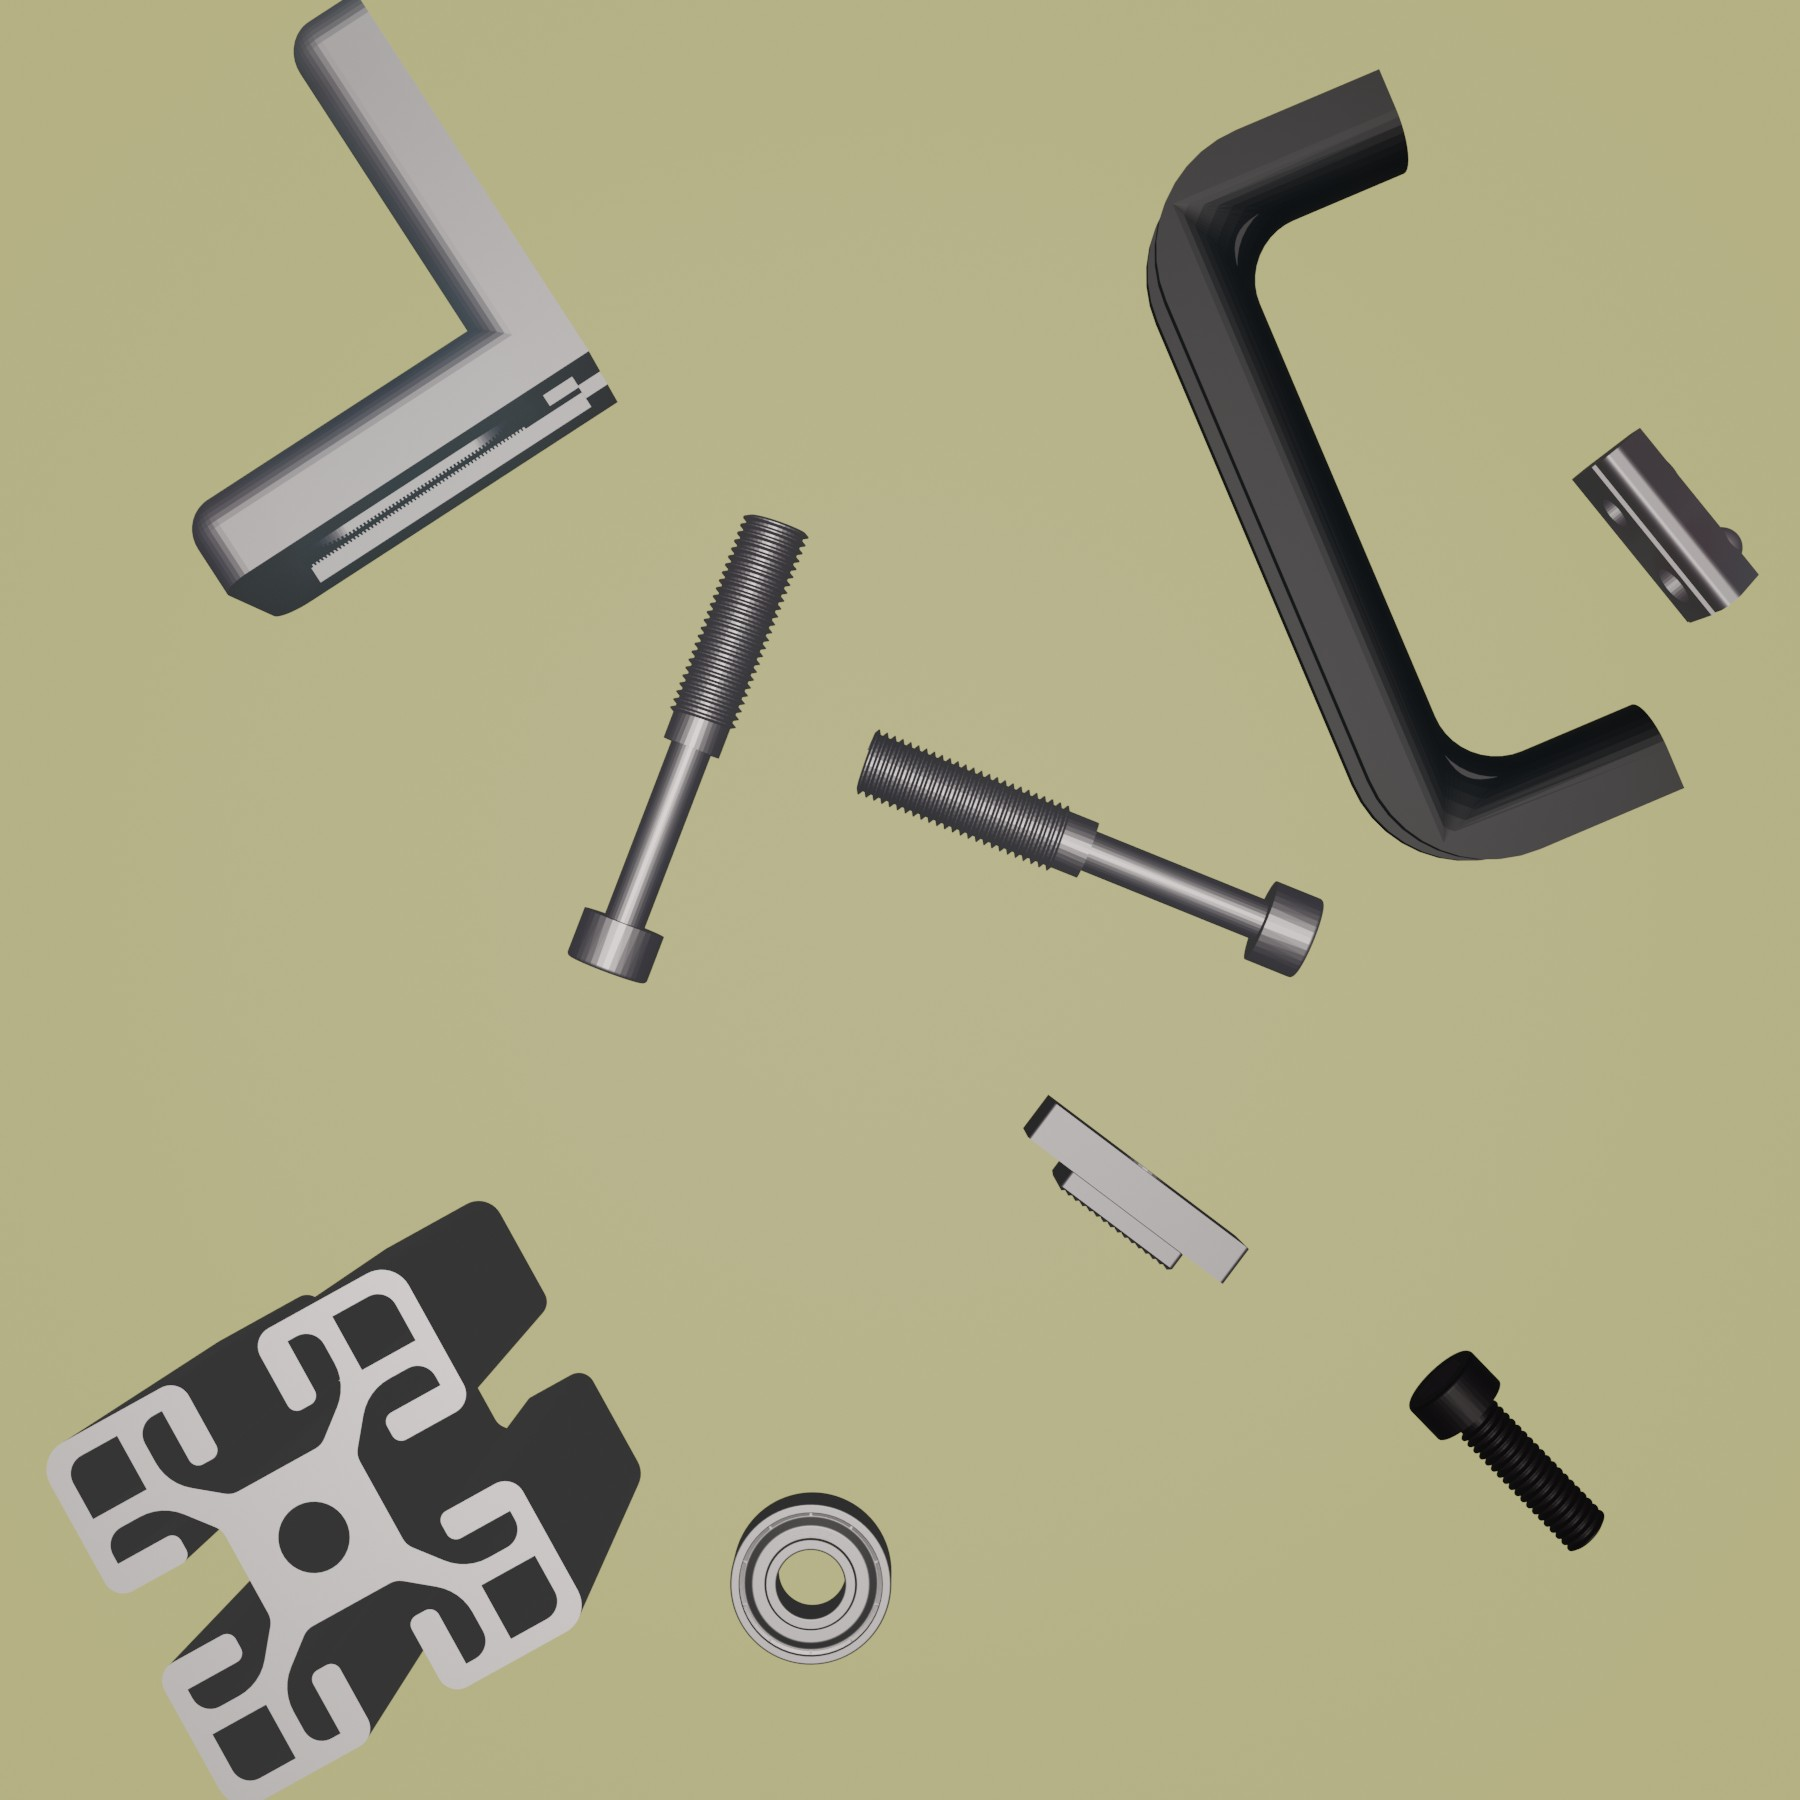Aluminium Extension: (46, 1200, 643, 1800)
Ball Bearing: (725, 1488, 893, 1668)
Multiwinkel: (190, 2, 625, 620)
Pull Handle: (1144, 68, 1686, 865)
Shoulder Socket Head Cap Screw: (852, 727, 1325, 981), (565, 511, 811, 986)
Socket Head Cap Screw: (1409, 1345, 1605, 1561)
T Nut Square: (1020, 1088, 1251, 1289)
T Spring Nut: (1564, 425, 1759, 626)
